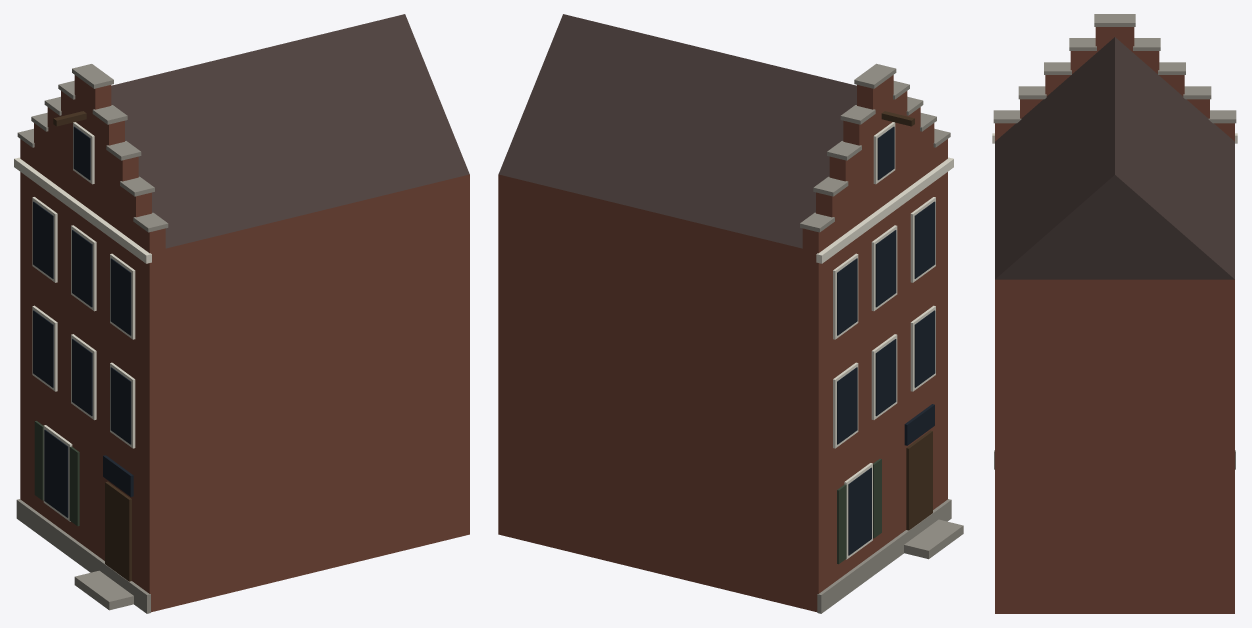
The model's file is gevel_trap.glb.
3 renders of one model, left to right at view 1: azimuth 30°, elevation 25°; view 2: azimuth 150°, elevation 25°; view 3: azimuth 270°, elevation 25°, orthographic. The views are drawn at different scales.
Visible parts, largest first — view 1: Gevel; view 2: Gevel; view 3: Gevel.
Boxes of the visible parts, x1=… form: Gevel: x1=14, y1=14, x2=469, y2=613; Gevel: x1=498, y1=14, x2=963, y2=613; Gevel: x1=992, y1=14, x2=1237, y2=613.
Size of the model in its own units: 8.75 by 11.69 by 5.72.
